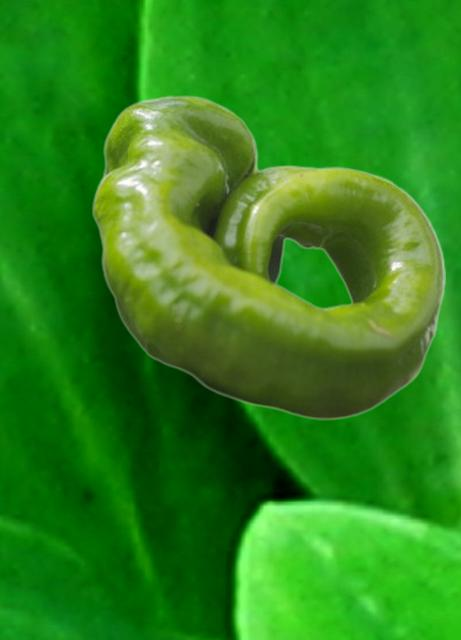green_chili: (92, 95, 444, 419)
